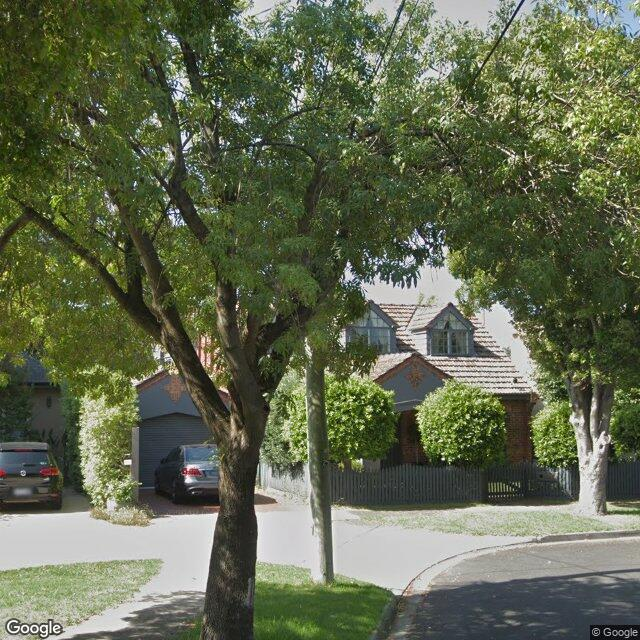timber-pole: (307, 355, 334, 586)
